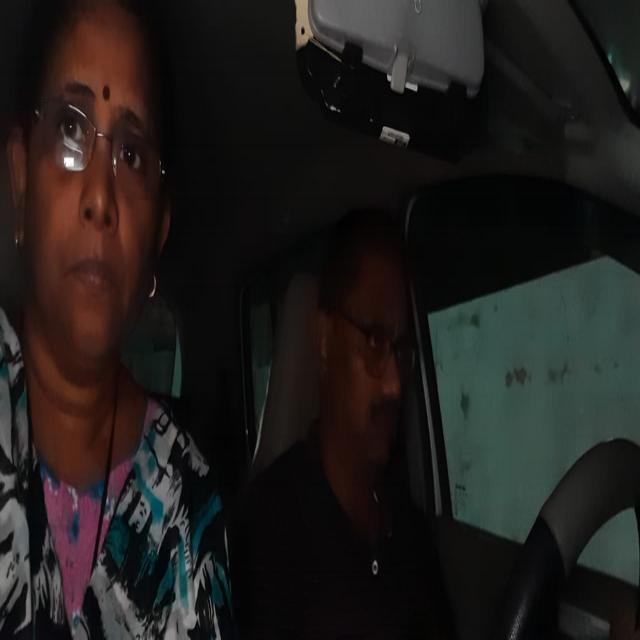person: (12, 12, 164, 386), (322, 238, 418, 482)
